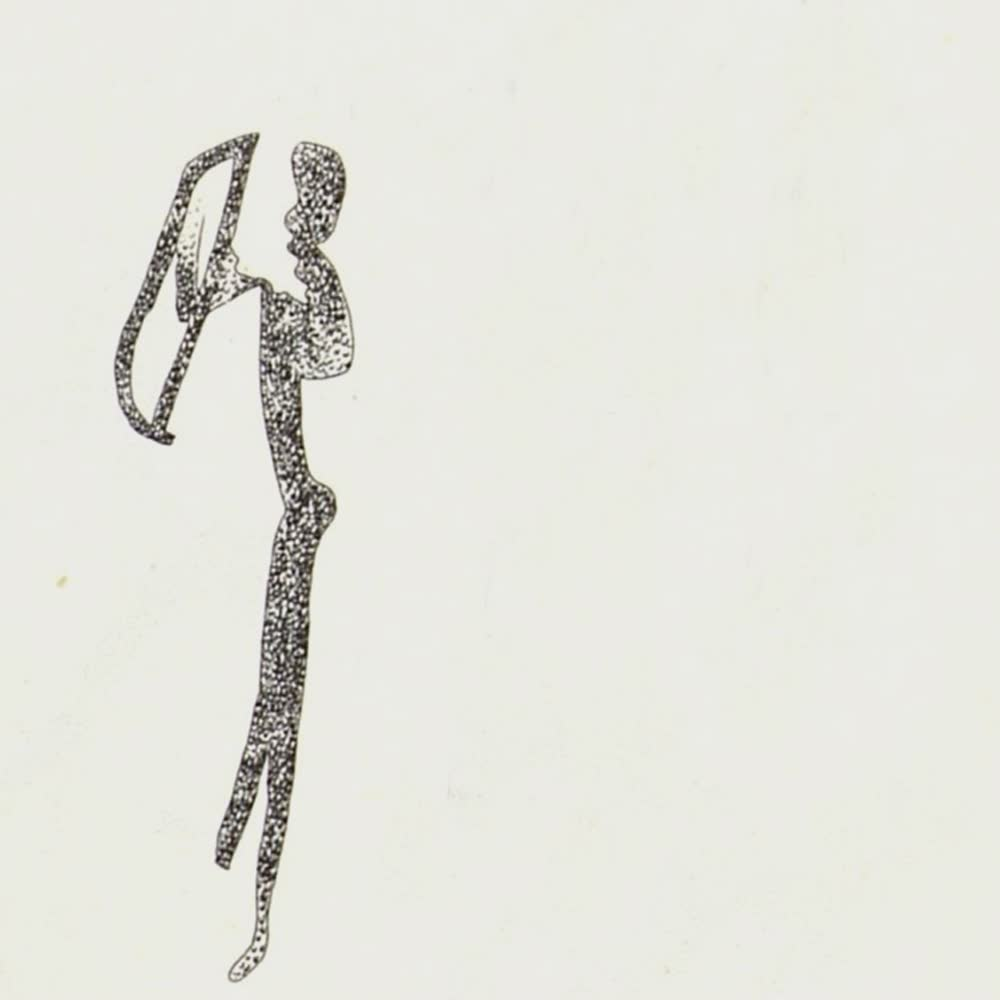man: (110, 130, 361, 990)
